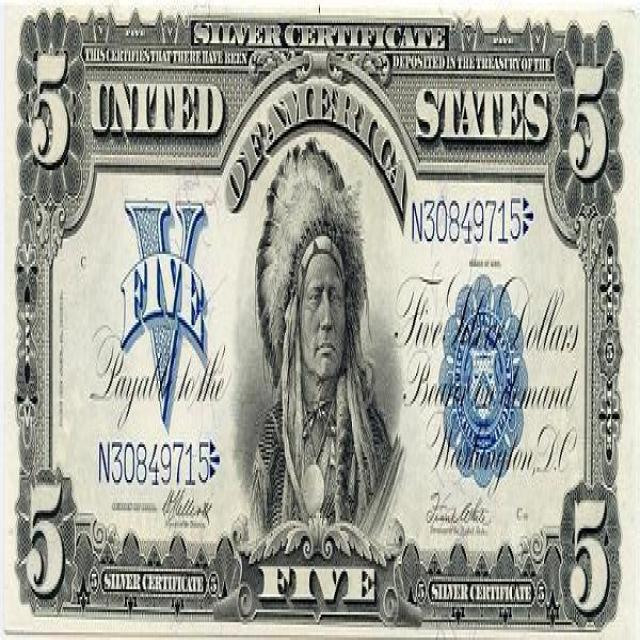5-Front: (4, 2, 633, 640)
